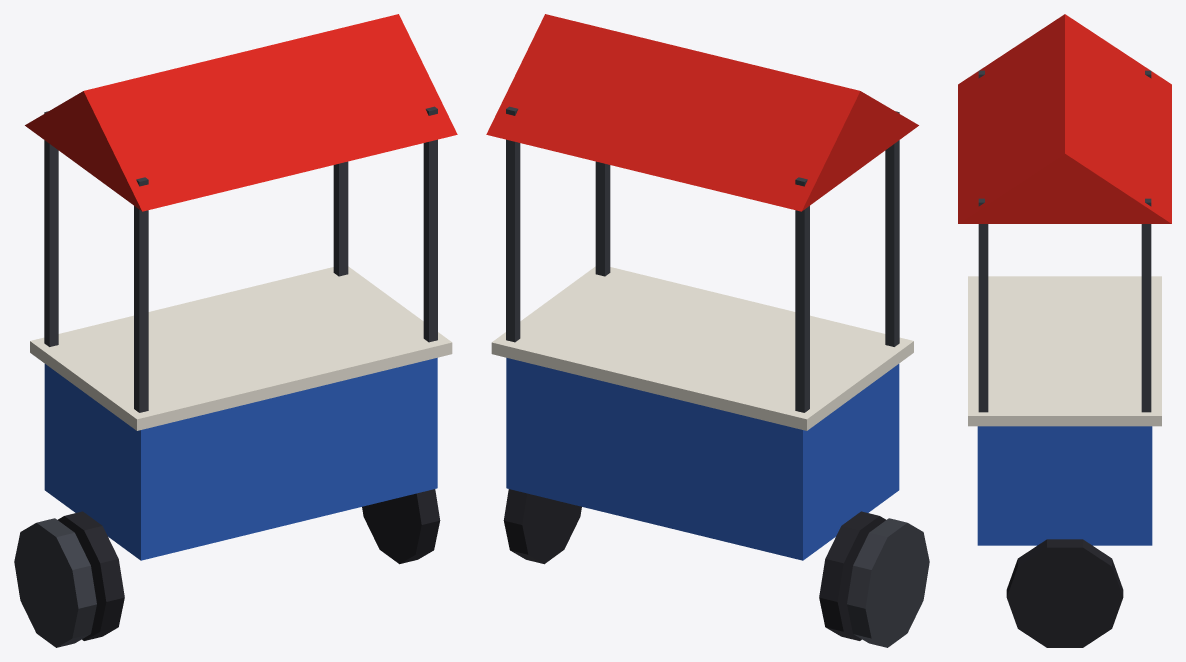
File: street_food_cart.glb
The picture shows the model from 3 angles, left to right: view 1: azimuth 30°, elevation 25°; view 2: azimuth 150°, elevation 25°; view 3: azimuth 270°, elevation 25°; orthographic projection. The views are drawn at different scales.
Parts seen in each view (by area): view 1: street_food_cart; view 2: street_food_cart; view 3: street_food_cart.
Part boxes in pixels (box(x1,y1,x2,y2)): street_food_cart: box(14, 14, 457, 647); street_food_cart: box(486, 14, 929, 647); street_food_cart: box(958, 14, 1171, 647).
Size of the model in its own units: 1.95 by 2.79 by 1.1.
